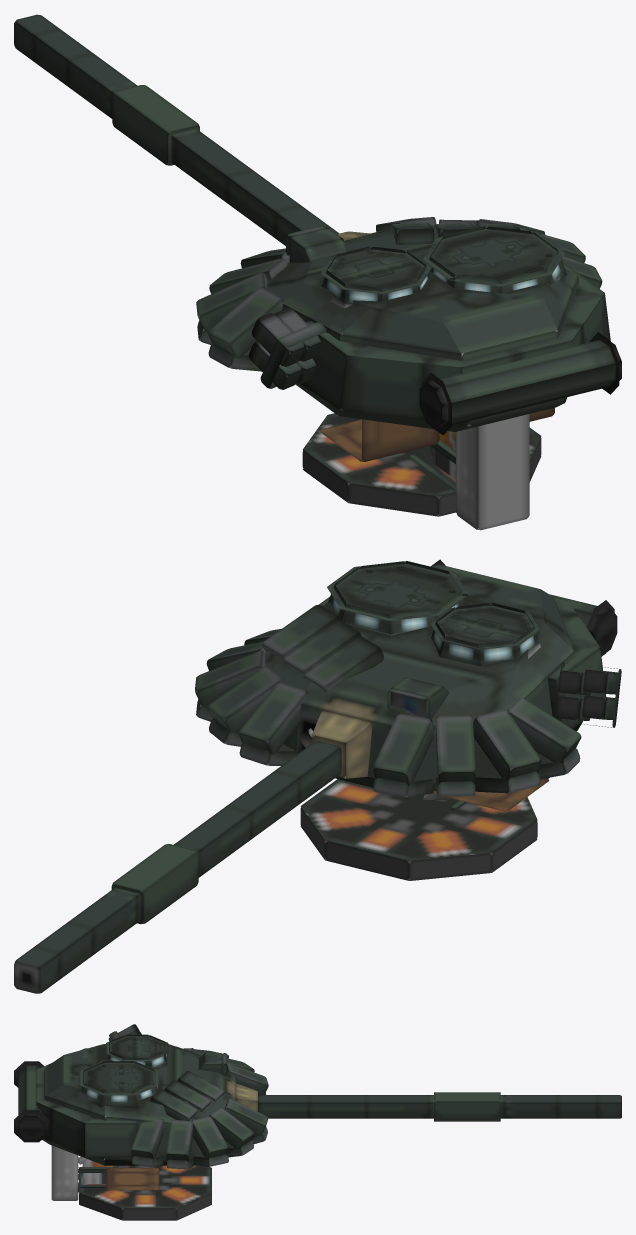
Rendered from autoloaderturret_nogroup.obj.
3 renders of one model, top to bottom at view 1: azimuth 30°, elevation 25°; view 2: azimuth 150°, elevation 25°; view 3: azimuth 270°, elevation 25°, orthographic. The views are drawn at different scales.
Parts seen in each view (by area): view 1: cylinder64, cube6, cylinder62, cylinder73, cylinder63, cube, cylinder_selection69, cube9, cylinder61, cube37, cylinder_selection72, cube59 (+16 smaller); view 2: cylinder63, cylinder64, cube6, cylinder_selection69, cube9, cylinder61, cube36, cube34, cube24, cube67, cube35, cylinder62 (+24 smaller); view 3: cube6, cylinder64, cylinder63, cylinder62, cube9, cylinder_selection69, cylinder73, cube, cube55, cylinder68, cylinder61, cube26 (+18 smaller).
Boxes of the visible parts, <box> form: cylinder64: <box>263,225,577,353</box>; cube6: <box>14,14,339,245</box>; cylinder62: <box>302,262,610,417</box>; cylinder73: <box>419,340,621,429</box>; cylinder63: <box>302,413,541,516</box>; cube: <box>456,414,529,530</box>; cylinder_selection69: <box>422,226,565,286</box>; cube9: <box>112,85,199,165</box>; cylinder61: <box>282,276,579,425</box>; cube37: <box>208,287,284,358</box>; cylinder_selection72: <box>320,249,431,294</box>; cube59: <box>362,419,439,461</box>; cylinder63: <box>300,779,537,880</box>; cylinder64: <box>258,564,573,725</box>; cube6: <box>14,741,341,993</box>; cylinder_selection69: <box>327,561,468,620</box>; cube9: <box>111,844,198,924</box>; cylinder61: <box>283,649,582,783</box>; cube36: <box>473,709,541,781</box>; cube34: <box>373,713,434,786</box>; cube24: <box>239,682,308,754</box>; cube67: <box>312,711,372,778</box>; cube35: <box>435,715,475,784</box>; cylinder62: <box>319,596,606,728</box>; cube6: <box>258,1095,621,1118</box>; cylinder64: <box>45,1044,235,1122</box>; cylinder63: <box>79,1165,211,1220</box>; cylinder62: <box>36,1048,138,1157</box>; cube9: <box>434,1092,500,1121</box>; cylinder_selection69: <box>79,1061,159,1095</box>; cylinder73: <box>18,1065,44,1140</box>; cube: <box>51,1145,78,1200</box>; cube55: <box>106,1168,159,1190</box>; cylinder68: <box>81,1061,157,1108</box>; cylinder61: <box>43,1069,236,1161</box>; cube26: <box>192,1116,228,1159</box>.
Size of the model in its own units: 3.73 by 2.13 by 8.99.
